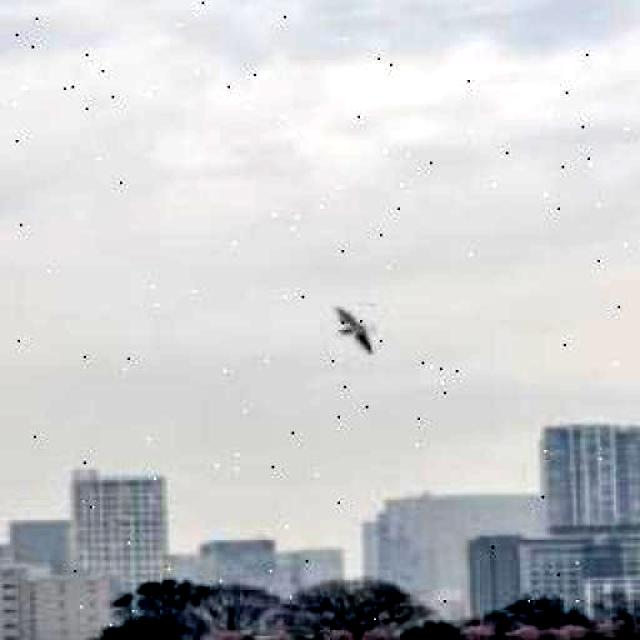airplane: (329, 305, 379, 355)
